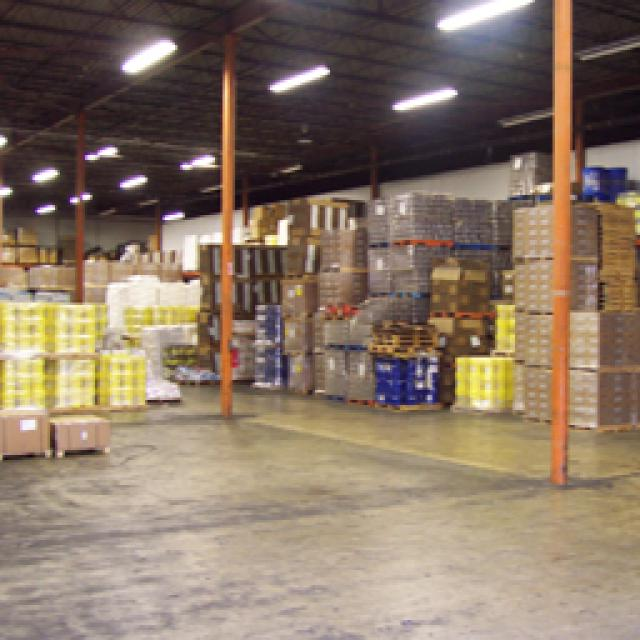box contants: (48, 412, 110, 450), (2, 408, 48, 458)
floor -X: (0, 352, 635, 638)
girder: (548, 0, 572, 482), (218, 32, 235, 412)
lamp crop: (435, 0, 532, 30), (268, 62, 328, 95), (118, 38, 172, 72), (392, 82, 452, 110)
merchandise: (280, 190, 510, 402), (0, 225, 195, 395), (510, 205, 635, 428), (370, 265, 510, 400), (165, 242, 280, 380), (0, 298, 145, 407), (245, 195, 362, 280), (452, 302, 512, 412), (250, 302, 285, 388)
wall clock: (160, 138, 635, 420), (0, 212, 160, 352)
